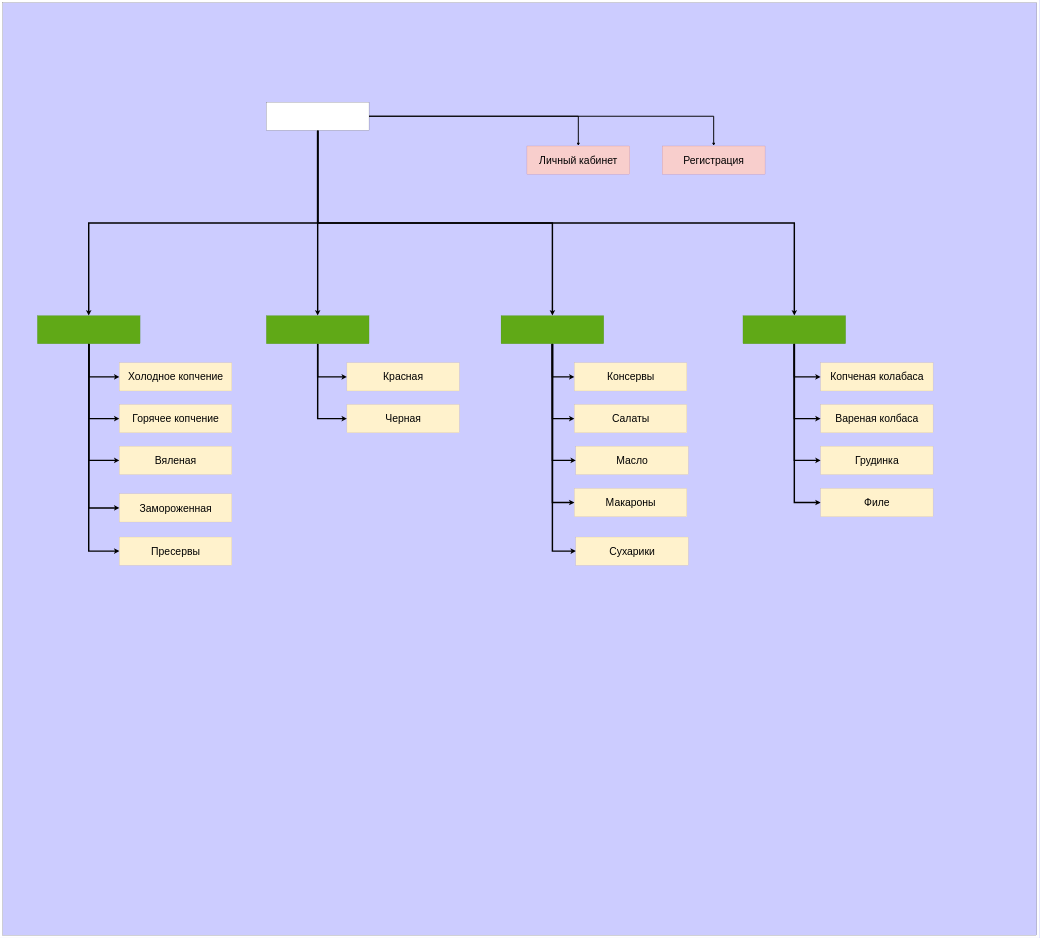
Image size: 1040x938. Some labels were removed from this diagram. The shapes that lost their labels are listed below. From the top down, each one's box as (x1, y1, x2, y2) in pixels, then its label:
(266, 102, 369, 130): Главная страница
(37, 315, 140, 344): Рыба
(266, 315, 369, 344): Икра
(501, 315, 604, 344): Бакалея
(743, 315, 846, 344): Мясо
